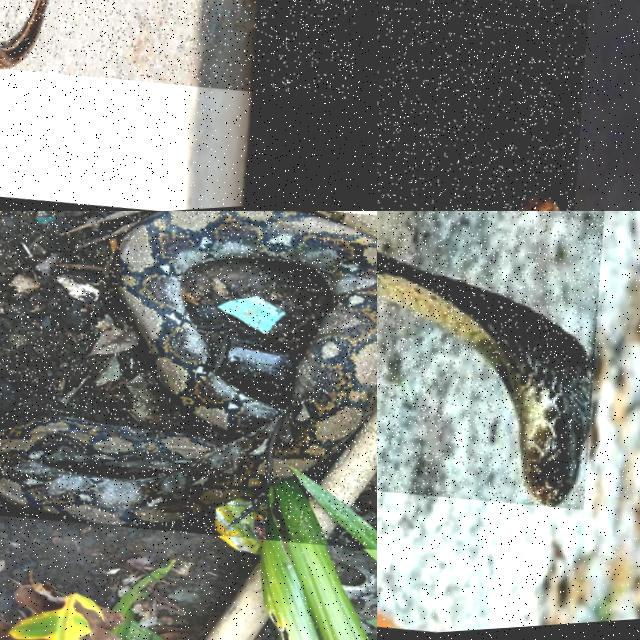Malayopython reticulatus: (0, 211, 376, 524)
Naja kaouthia: (0, 0, 46, 67)
Naja siamensis: (377, 252, 591, 506)
Ophiophagus hannah: (519, 196, 558, 210)
